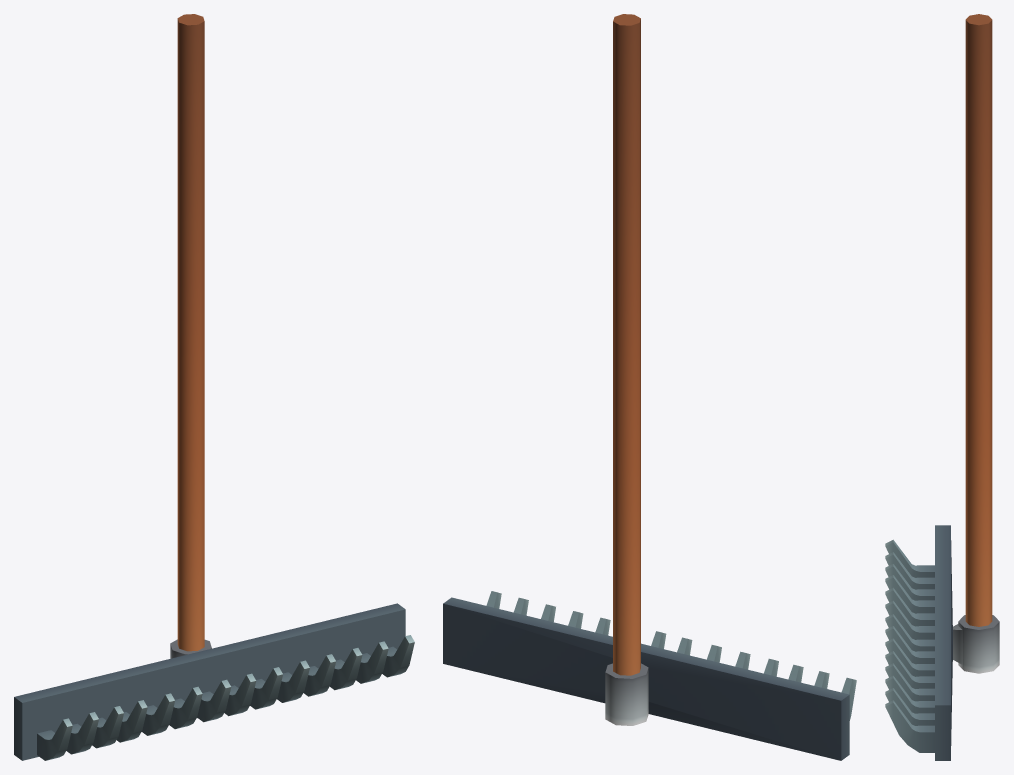
File: Harrow.fbx
3 renders of one model, left to right at view 1: azimuth 30°, elevation 25°; view 2: azimuth 150°, elevation 25°; view 3: azimuth 270°, elevation 25°, orthographic. The views are drawn at different scales.
Parts seen in each view (by area): view 1: Harrow; view 2: Harrow; view 3: Harrow.
Part boxes in pixels (x1=…): Harrow: x1=14, y1=14, x2=414, y2=760; Harrow: x1=443, y1=14, x2=856, y2=760; Harrow: x1=885, y1=14, x2=999, y2=760.
Bounding box in the file's own units: 0.4364 × 0.7371 × 0.1173.
